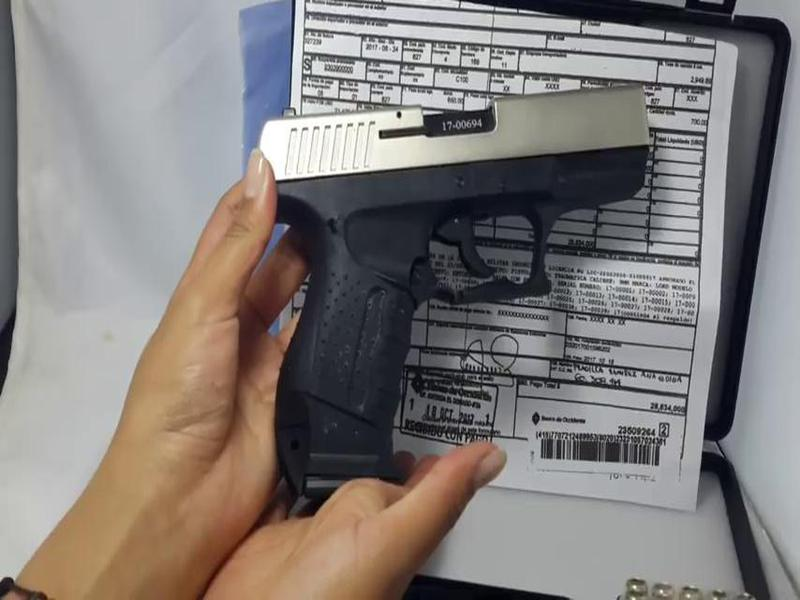Pistola: (253, 78, 667, 507)
